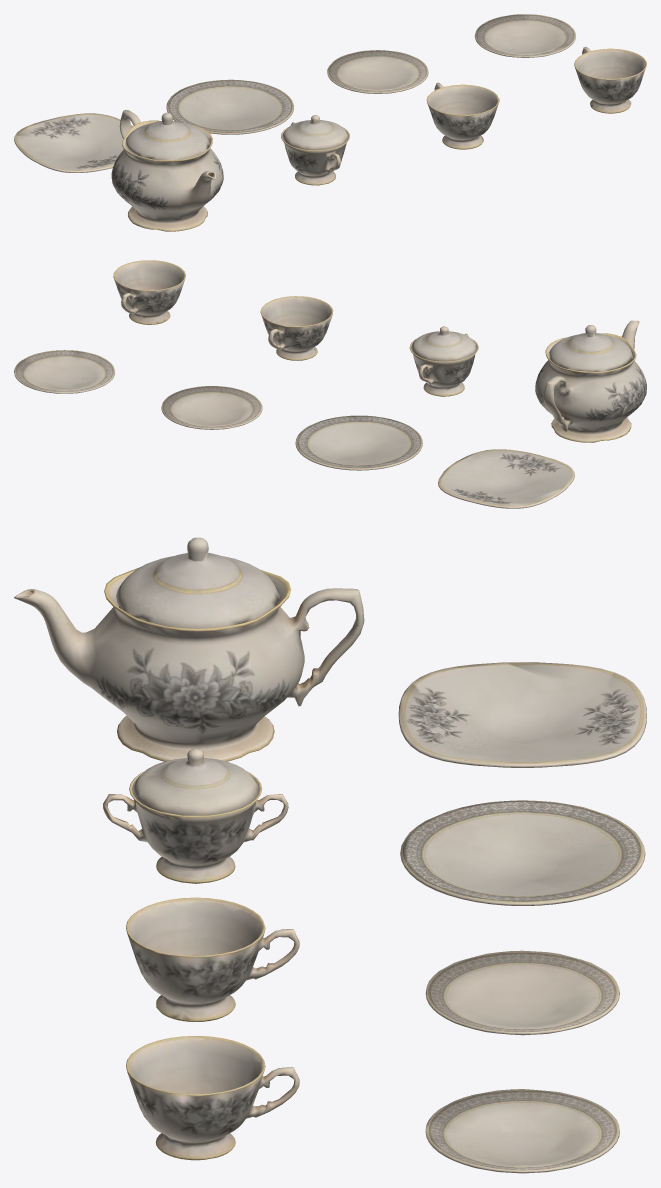
File: tea_set_01.glb
3 renders of one model, top to bottom at view 1: azimuth 30°, elevation 25°; view 2: azimuth 150°, elevation 25°; view 3: azimuth 270°, elevation 25°, orthographic. The views are drawn at different scales.
Parts seen in each view (by area): view 1: tea_set_01_plate_large_square_01; view 2: tea_set_01_plate_large_square_01; view 3: tea_set_01_plate_large_square_01.
Boxes of the visible parts, <box> form: tea_set_01_plate_large_square_01: <box>14,14,646,231</box>; tea_set_01_plate_large_square_01: <box>14,260,646,508</box>; tea_set_01_plate_large_square_01: <box>14,537,646,1173</box>.
Size of the model in its own units: 0.9183 by 0.165 by 0.4839.
Materials: 1 (1 with a texture image).
